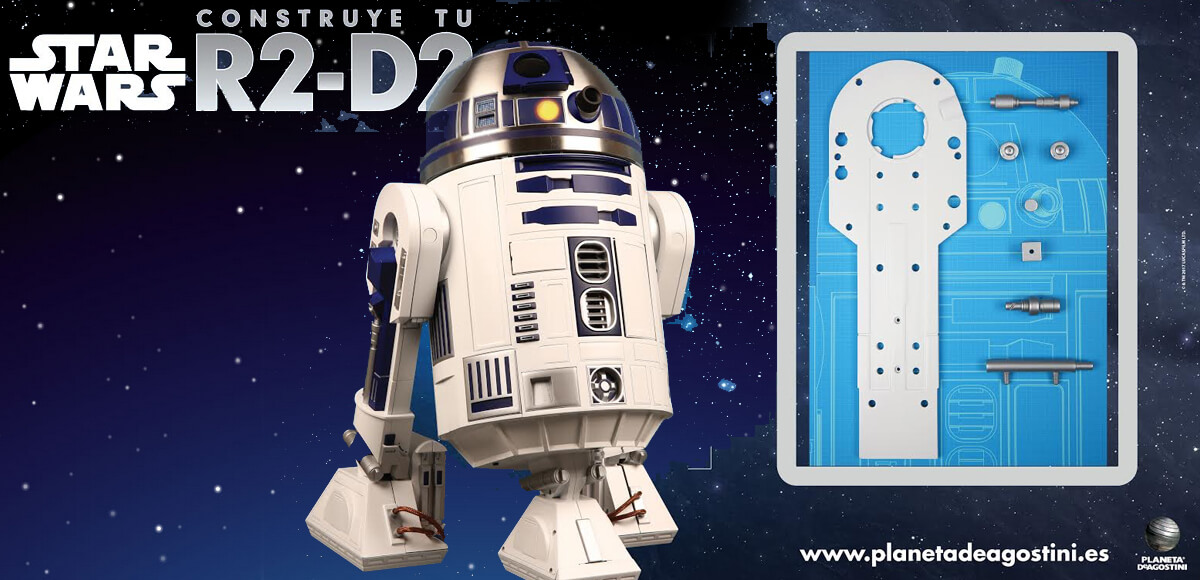r2d2: (355, 49, 689, 580)
